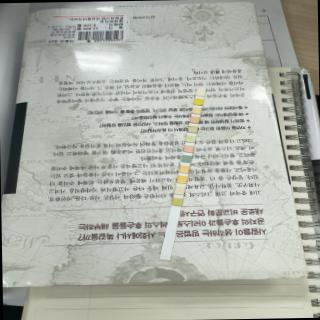mark: (172, 197, 181, 205), (177, 175, 187, 182), (184, 145, 193, 152), (179, 165, 188, 172), (182, 155, 190, 162), (176, 186, 183, 194), (190, 117, 199, 123), (188, 126, 197, 132), (186, 136, 195, 142), (195, 98, 202, 105), (192, 108, 200, 114), (197, 90, 204, 96)
